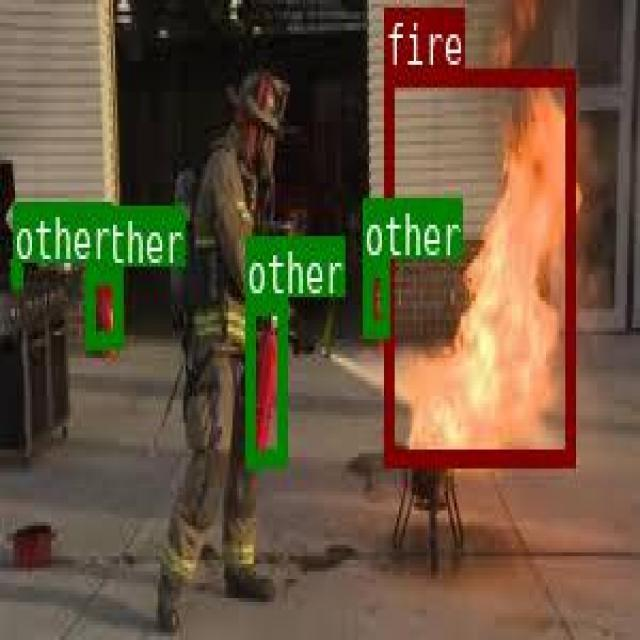fire: (383, 68, 572, 463)
